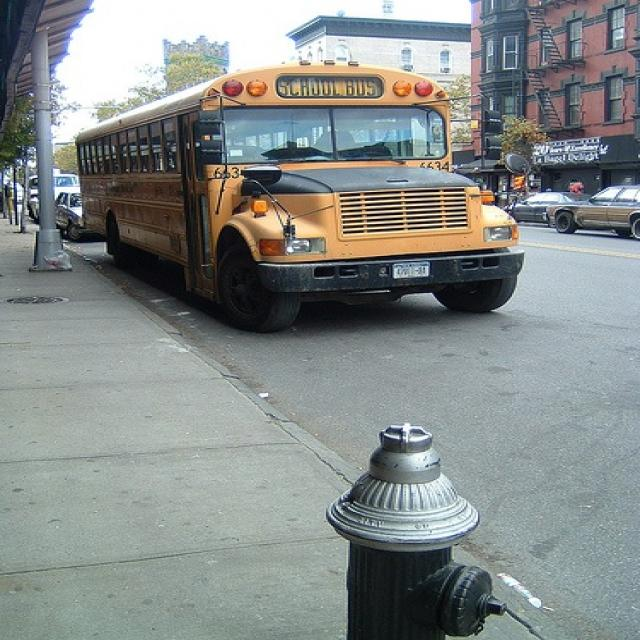bus: (72, 61, 526, 333)
car: (544, 183, 638, 242)
fire_hydrant: (326, 421, 529, 639)
pole: (24, 32, 65, 270)
